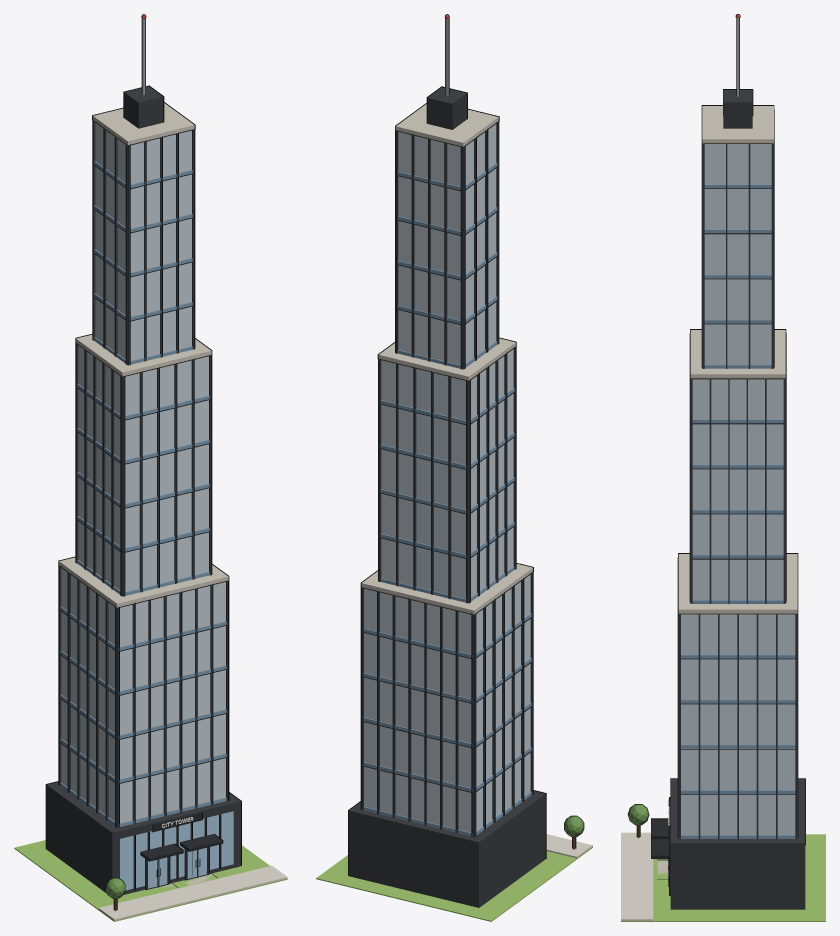
File: Buro_is_kulesi_2.fbx
3 views of the same model, side by side, from view 1: azimuth 30°, elevation 25°; view 2: azimuth 150°, elevation 25°; view 3: azimuth 270°, elevation 25° (orthographic). The views are drawn at different scales.
Parts seen in each view (by area): view 1: Buro_is_kulesi_2; view 2: Buro_is_kulesi_2; view 3: Buro_is_kulesi_2.
Boxes of the visible parts, box(x1,y1,x2,y2) form: Buro_is_kulesi_2: box(14, 14, 287, 921); Buro_is_kulesi_2: box(316, 14, 592, 921); Buro_is_kulesi_2: box(621, 14, 825, 921).
Size of the model in its own units: 14 by 65.23 by 14.
